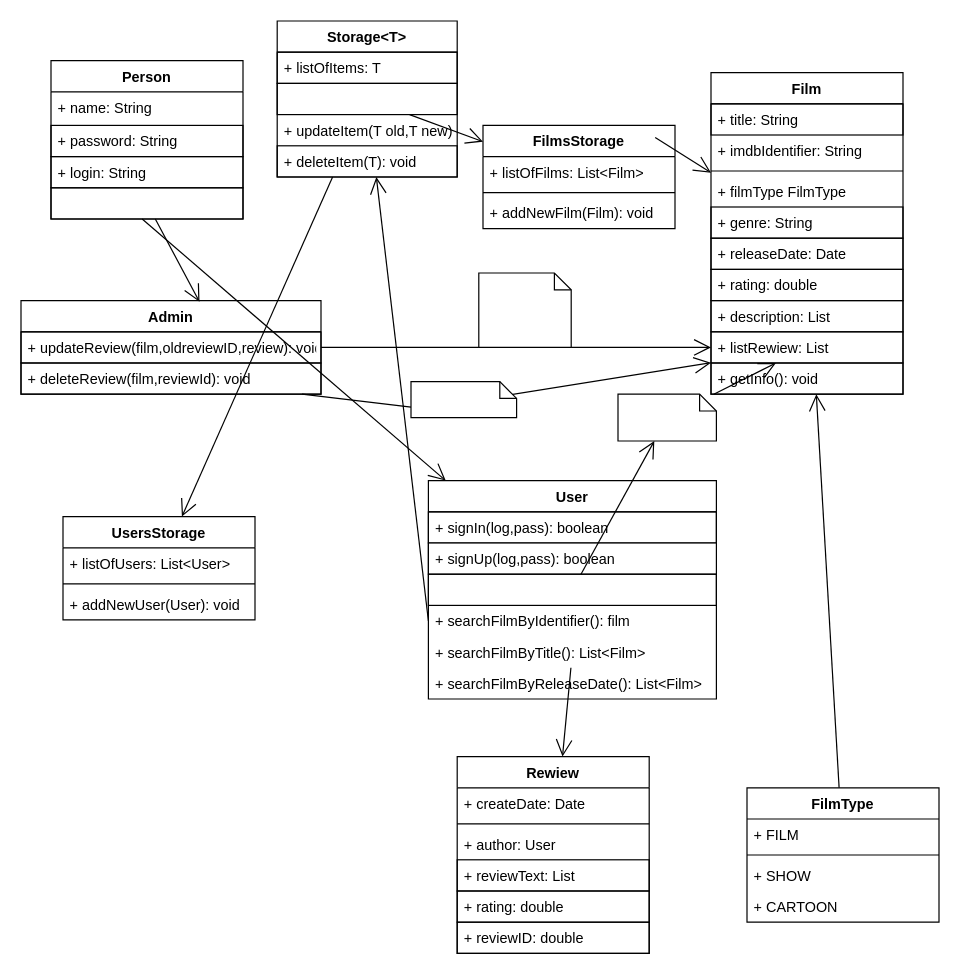
Image size: 960x978. Some labels were removed from this diagram. The shapes that lost their labels are listed below. From the top down, each one's centre as x and y in pixels, then its label:
At point (366, 98): "+ addNewItem(T): void".
At point (146, 203): "+ logOut(): void".
At point (524, 309): "ищем старый отзыв в лист по ид,заменяем на новый".
At point (463, 399): "удаляем отзыв по ревью ид".
At point (666, 417): "добавление отчета в лист".
At point (571, 589): "+ writeReview(film,review): void".
